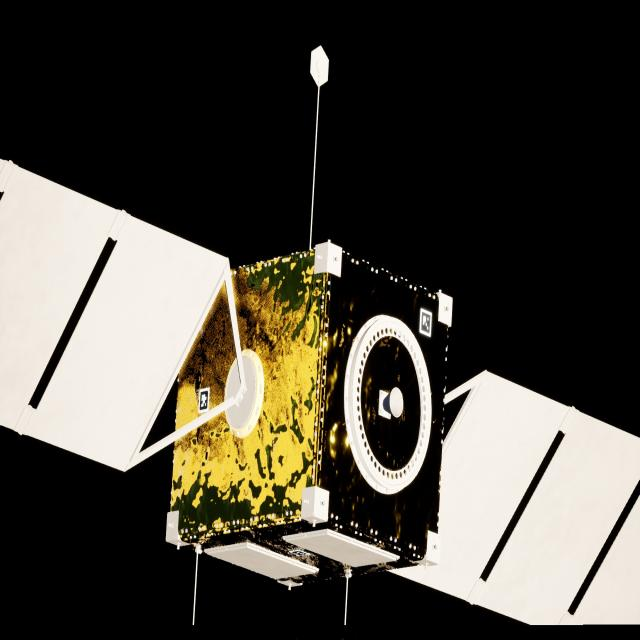medium_debris: (0, 163, 640, 628)
